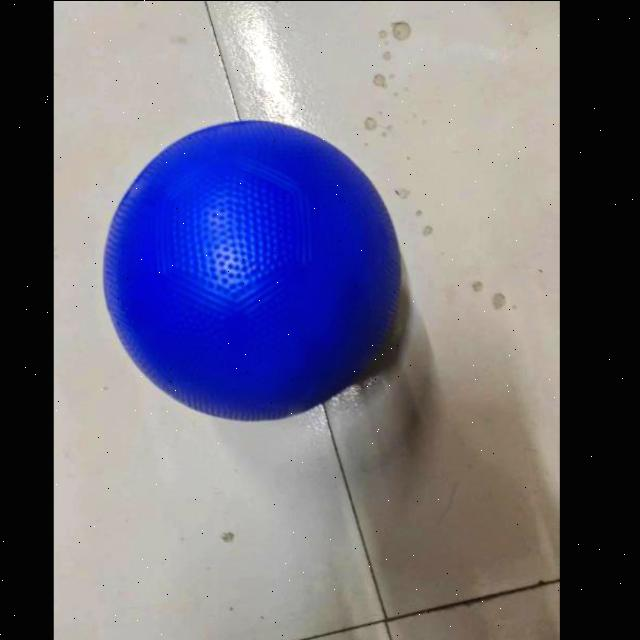B: (101, 114, 409, 430)
